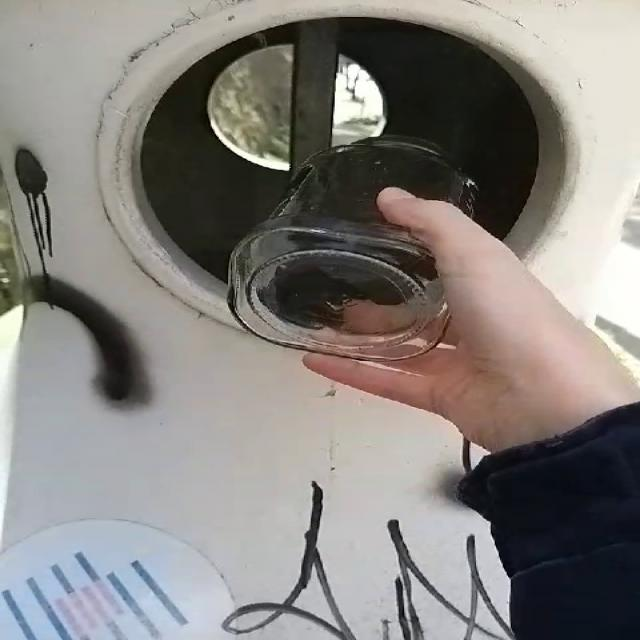glass: (228, 135, 477, 361)
